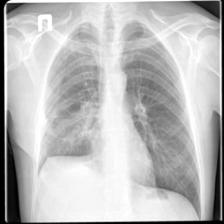tuberculosis: (34, 12, 202, 219)
